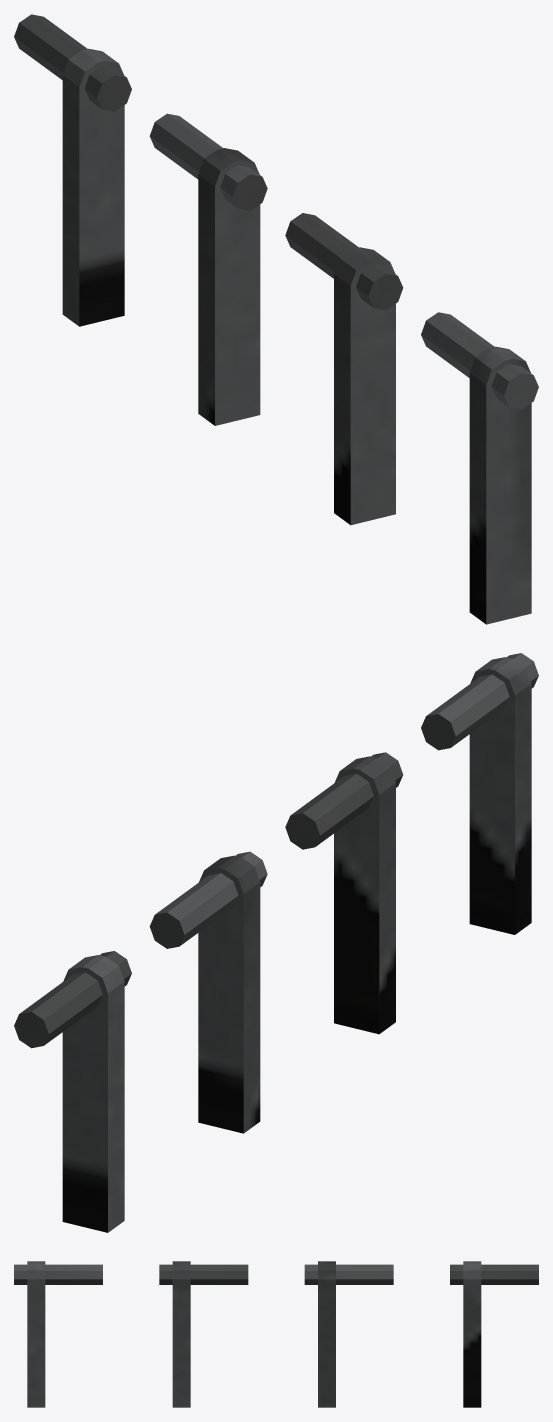
Rendered from electrical_levers.fbx.
3 views of the same model, one above another, from view 1: azimuth 30°, elevation 25°; view 2: azimuth 150°, elevation 25°; view 3: azimuth 270°, elevation 25° (orthographic). The views are drawn at different scales.
Parts seen in each view (by area): view 1: cabinet1.003, cabinet1.006, cabinet1.004, cabinet1.005; view 2: cabinet1.004, cabinet1.006, cabinet1.003, cabinet1.005; view 3: cabinet1.005, cabinet1.006, cabinet1.003, cabinet1.004.
Boxes of the visible parts, x1,y1,x2,y2 form: cabinet1.003: (14, 14, 131, 326); cabinet1.006: (421, 312, 538, 624); cabinet1.004: (149, 113, 267, 425); cabinet1.005: (285, 213, 403, 525); cabinet1.004: (149, 851, 267, 1133); cabinet1.006: (421, 653, 538, 934); cabinet1.003: (14, 951, 131, 1232); cabinet1.005: (285, 752, 403, 1034); cabinet1.005: (159, 1261, 248, 1407); cabinet1.006: (14, 1261, 102, 1407); cabinet1.003: (450, 1261, 538, 1407); cabinet1.004: (304, 1261, 393, 1407).
Bounding box in the file's own units: 0.0508 × 0.2787 × 0.9539.
